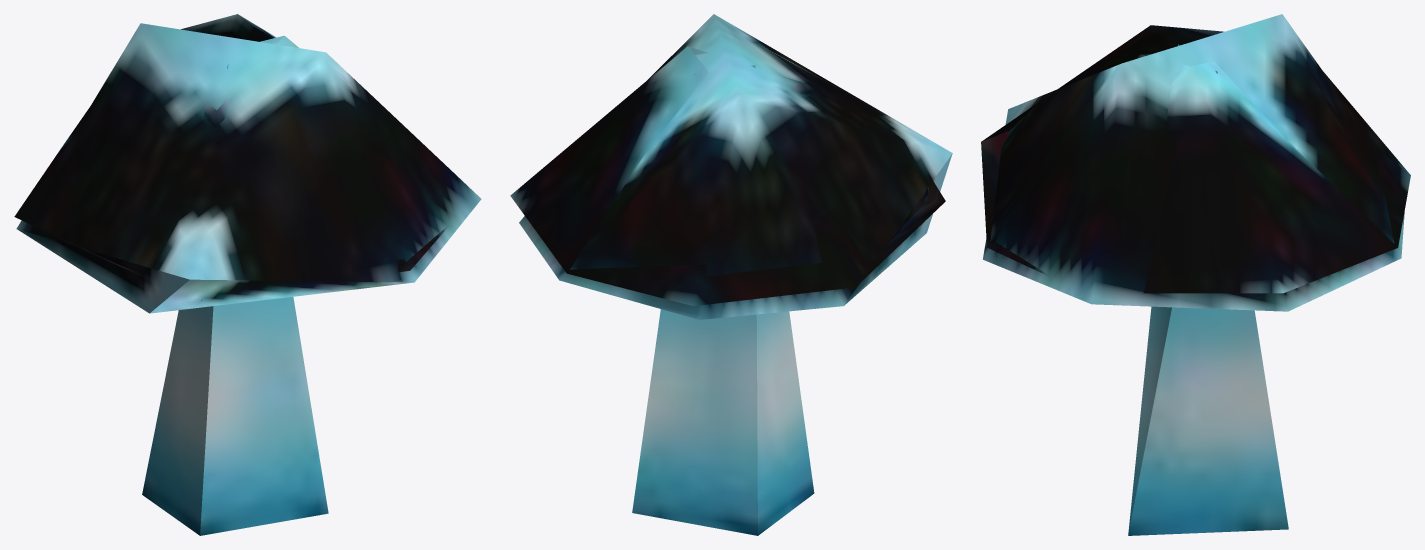
The model's file is b_mycelium_deco_champignon_lod2.glb.
3 renders of one model, left to right at view 1: azimuth 30°, elevation 25°; view 2: azimuth 150°, elevation 25°; view 3: azimuth 270°, elevation 25°, orthographic. The views are drawn at different scales.
Parts seen in each view (by area): view 1: geometry_0; view 2: geometry_0; view 3: geometry_0.
Part boxes in pixels (<box>): geometry_0: <box>14,14,481,535</box>; geometry_0: <box>510,14,952,535</box>; geometry_0: <box>981,14,1410,535</box>.
Size of the model in its own units: 0.8638 by 1.02 by 0.8484.
Materials: 1 (1 with a texture image).
